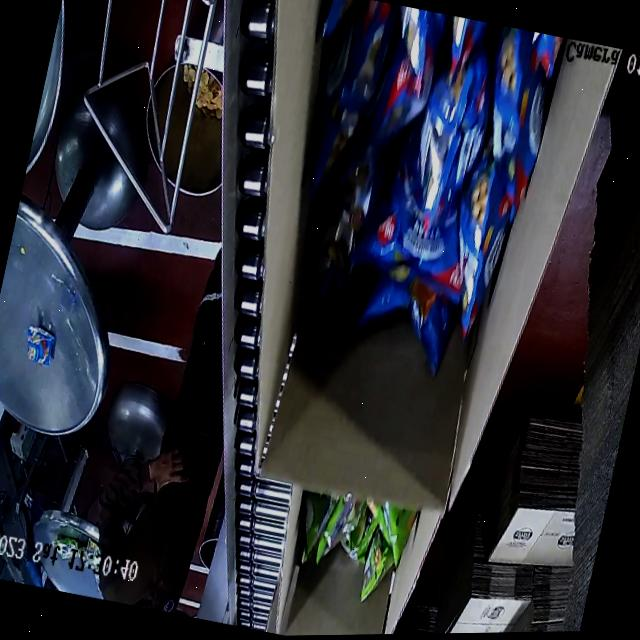PAPRIKA: (264, 0, 592, 392)
